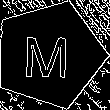M_N: (25, 29, 74, 80)
